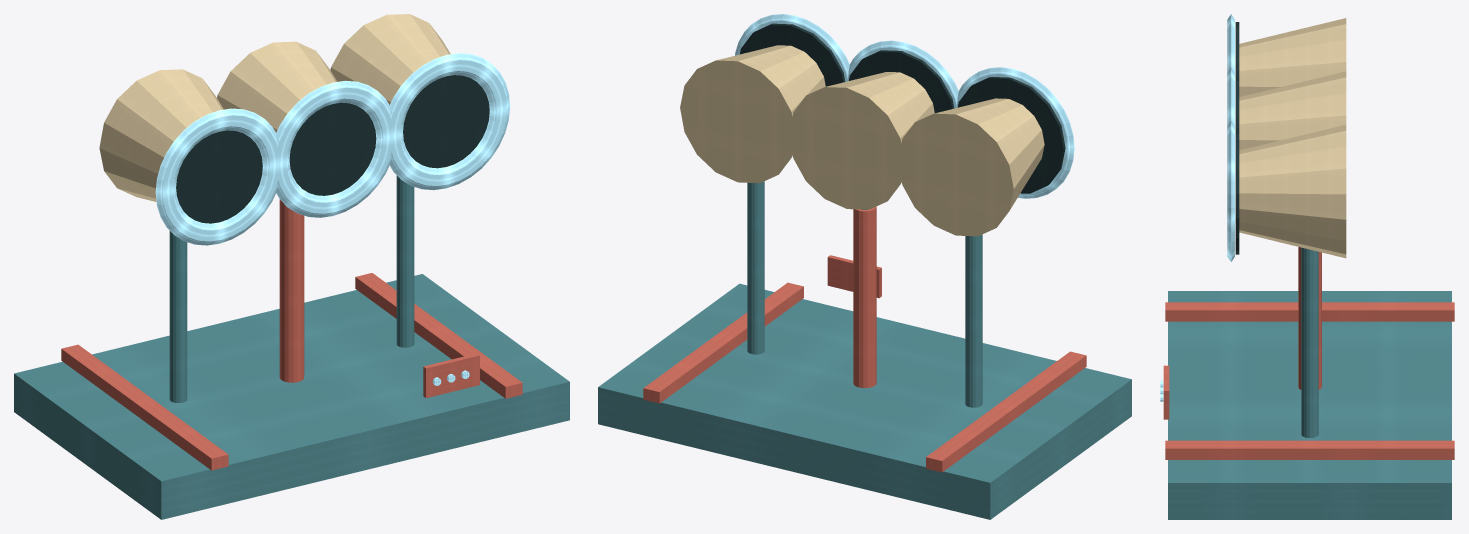
Rendered from atlas100-s079-a02.glb.
3 renders of one model, left to right at view 1: azimuth 30°, elevation 25°; view 2: azimuth 150°, elevation 25°; view 3: azimuth 270°, elevation 25°, orthographic. The views are drawn at different scales.
Visible parts, largest first — view 1: atlas100-s079-a02:part-000, atlas100-s079-a02:part-006, atlas100-s079-a02:part-008, atlas100-s079-a02:part-016, atlas100-s079-a02:part-012, atlas100-s079-a02:part-007, atlas100-s079-a02:part-015, atlas100-s079-a02:part-011, atlas100-s079-a02:part-014, atlas100-s079-a02:part-010, atlas100-s079-a02:part-001, atlas100-s079-a02:part-003 (+4 smaller); view 2: atlas100-s079-a02:part-000, atlas100-s079-a02:part-006, atlas100-s079-a02:part-014, atlas100-s079-a02:part-010, atlas100-s079-a02:part-003, atlas100-s079-a02:part-001, atlas100-s079-a02:part-002, atlas100-s079-a02:part-007, atlas100-s079-a02:part-013, atlas100-s079-a02:part-005, atlas100-s079-a02:part-015, atlas100-s079-a02:part-011 (+4 smaller); view 3: atlas100-s079-a02:part-000, atlas100-s079-a02:part-014, atlas100-s079-a02:part-010, atlas100-s079-a02:part-006, atlas100-s079-a02:part-002, atlas100-s079-a02:part-001, atlas100-s079-a02:part-013, atlas100-s079-a02:part-003, atlas100-s079-a02:part-016, atlas100-s079-a02:part-015, atlas100-s079-a02:part-008, atlas100-s079-a02:part-012 (+1 smaller).
Part boxes in pixels (x1,y1,x2,y2): atlas100-s079-a02:part-000: (14, 274, 569, 519); atlas100-s079-a02:part-006: (99, 69, 223, 201); atlas100-s079-a02:part-008: (155, 108, 279, 245); atlas100-s079-a02:part-016: (389, 53, 510, 190); atlas100-s079-a02:part-012: (276, 80, 393, 217); atlas100-s079-a02:part-007: (176, 130, 262, 223); atlas100-s079-a02:part-015: (403, 75, 489, 168); atlas100-s079-a02:part-011: (289, 102, 376, 195); atlas100-s079-a02:part-014: (330, 14, 450, 105); atlas100-s079-a02:part-010: (217, 41, 337, 132); atlas100-s079-a02:part-001: (61, 344, 228, 470); atlas100-s079-a02:part-003: (279, 199, 304, 382); atlas100-s079-a02:part-000: (598, 283, 1131, 519); atlas100-s079-a02:part-006: (898, 98, 1044, 236); atlas100-s079-a02:part-014: (680, 45, 825, 183); atlas100-s079-a02:part-010: (789, 72, 934, 209); atlas100-s079-a02:part-003: (853, 206, 876, 388); atlas100-s079-a02:part-001: (926, 351, 1086, 472); atlas100-s079-a02:part-002: (643, 282, 803, 403); atlas100-s079-a02:part-007: (957, 77, 1065, 193); atlas100-s079-a02:part-013: (747, 181, 764, 354); atlas100-s079-a02:part-005: (965, 234, 982, 407); atlas100-s079-a02:part-015: (739, 23, 845, 86); atlas100-s079-a02:part-011: (848, 50, 954, 113); atlas100-s079-a02:part-000: (1168, 291, 1451, 519); atlas100-s079-a02:part-014: (1239, 124, 1346, 258); atlas100-s079-a02:part-010: (1239, 71, 1346, 150); atlas100-s079-a02:part-006: (1239, 18, 1346, 96); atlas100-s079-a02:part-002: (1165, 440, 1454, 459); atlas100-s079-a02:part-001: (1165, 302, 1454, 321); atlas100-s079-a02:part-013: (1301, 247, 1318, 437); atlas100-s079-a02:part-003: (1298, 247, 1321, 389); atlas100-s079-a02:part-016: (1227, 121, 1234, 261); atlas100-s079-a02:part-015: (1235, 128, 1239, 254); atlas100-s079-a02:part-008: (1227, 14, 1234, 72); atlas100-s079-a02:part-012: (1227, 67, 1234, 125).
Size of the model in its own units: 2.88 by 2.45 by 1.87.
5 materials, 5 textured.
